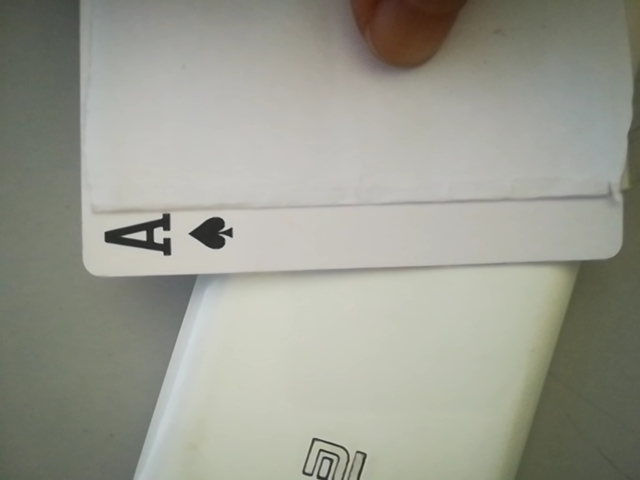ht a: (86, 203, 244, 273)
